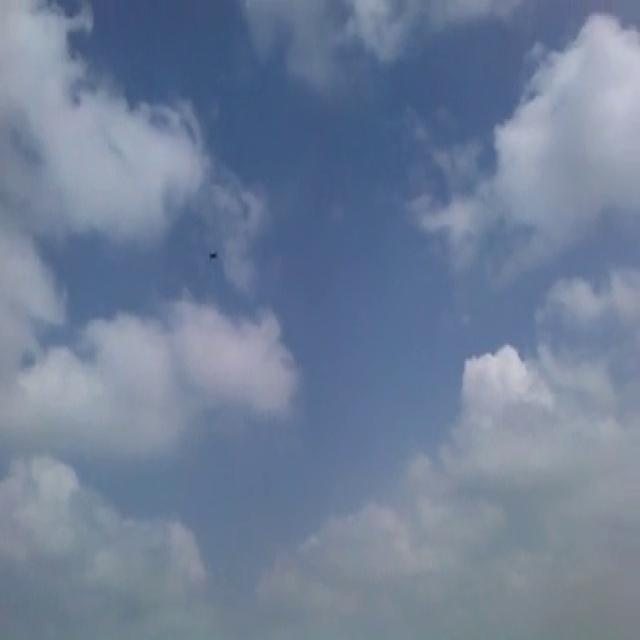drone: (205, 246, 220, 262)
